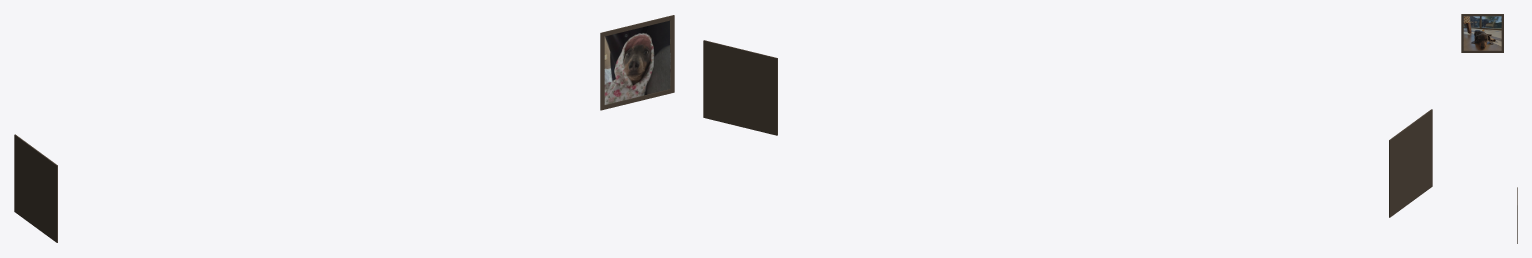
The model's file is Mona.fbx.
3 renders of one model, left to right at view 1: azimuth 30°, elevation 25°; view 2: azimuth 150°, elevation 25°; view 3: azimuth 270°, elevation 25°, orthographic. The views are drawn at different scales.
Parts seen in each view (by area): view 1: Picture, Frame1, Frame; view 2: Frame, Frame1; view 3: Picture1, Frame1, Frame.
Part boxes in pixels (x1,y1,x2,y2): Picture: [604, 20, 670, 104]; Frame1: [14, 134, 57, 242]; Frame: [600, 15, 674, 110]; Frame: [703, 40, 777, 135]; Frame1: [1389, 109, 1432, 217]; Picture1: [1463, 16, 1501, 50]; Frame1: [1461, 14, 1503, 52]; Frame: [1517, 187, 1517, 243].
Size of the model in its own units: 31.85 by 5.95 by 4.59.
3 materials, 2 textured.
